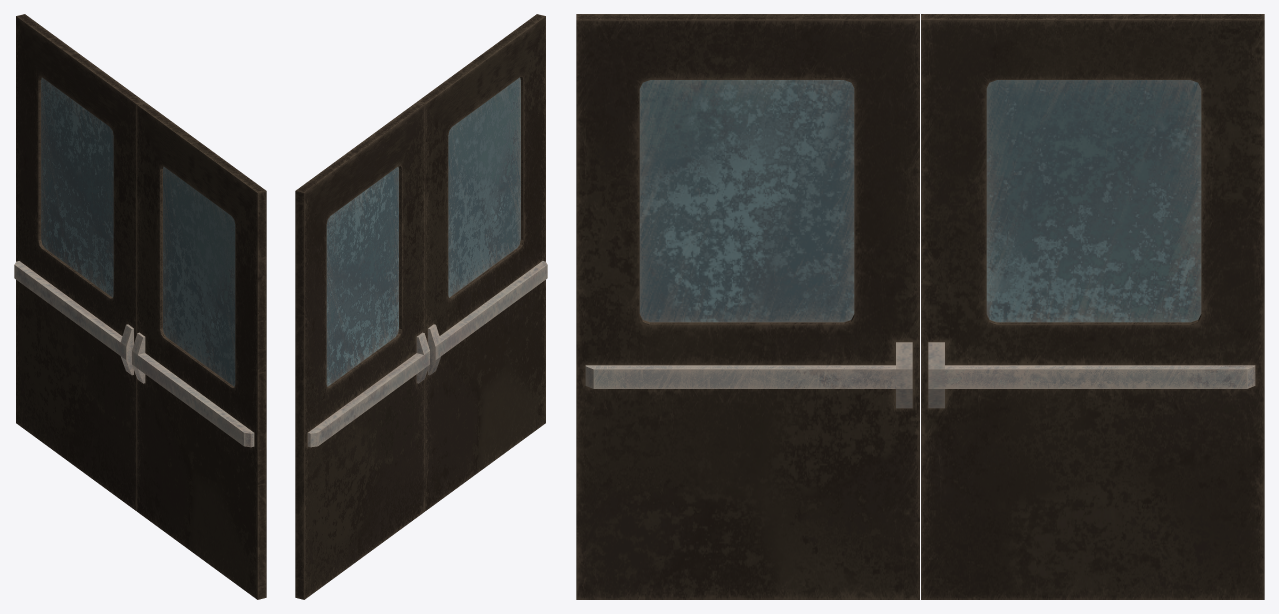
The model's file is Door_Mesh.fbx.
3 views of the same model, side by side, from view 1: azimuth 30°, elevation 25°; view 2: azimuth 150°, elevation 25°; view 3: azimuth 270°, elevation 25° (orthographic). The views are drawn at different scales.
Visible parts, largest first — view 1: Cube.012; view 2: Cube.012; view 3: Cube.012.
Part boxes in pixels (x1=…): Cube.012: x1=14, y1=14, x2=266, y2=599; Cube.012: x1=295, y1=14, x2=547, y2=599; Cube.012: x1=576, y1=14, x2=1264, y2=599.
Size of the model in its own units: 11.45 by 198 by 213.
Materials: 1 (1 with a texture image).
